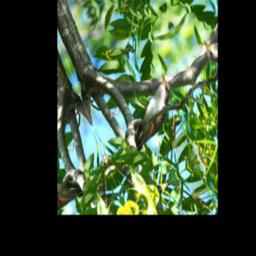Cuckoo: (121, 72, 183, 152)
